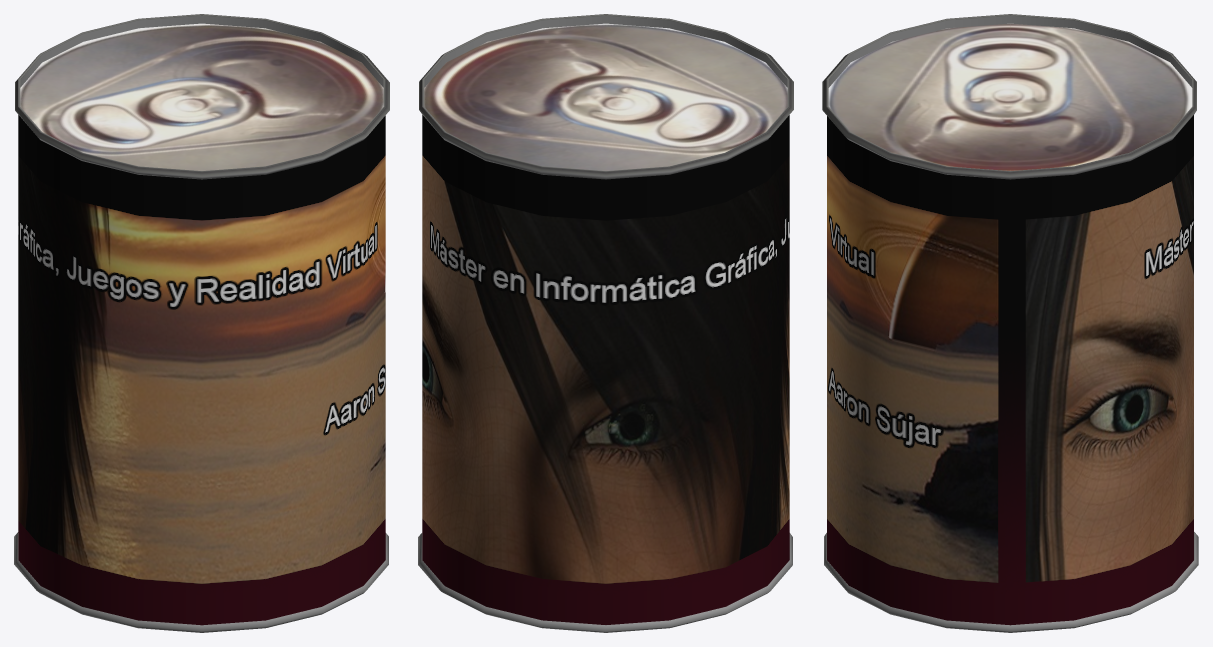
The model's file is lata.FBX.
3 renders of one model, left to right at view 1: azimuth 30°, elevation 25°; view 2: azimuth 150°, elevation 25°; view 3: azimuth 270°, elevation 25°, orthographic.
Parts seen in each view (by area): view 1: lata de conservas; view 2: lata de conservas; view 3: lata de conservas.
Boxes of the visible parts, bbox=[...] form: lata de conservas: bbox=[14, 14, 389, 632]; lata de conservas: bbox=[418, 14, 793, 632]; lata de conservas: bbox=[822, 14, 1198, 632].
Size of the model in its own units: 22.47 by 30.03 by 22.22.
